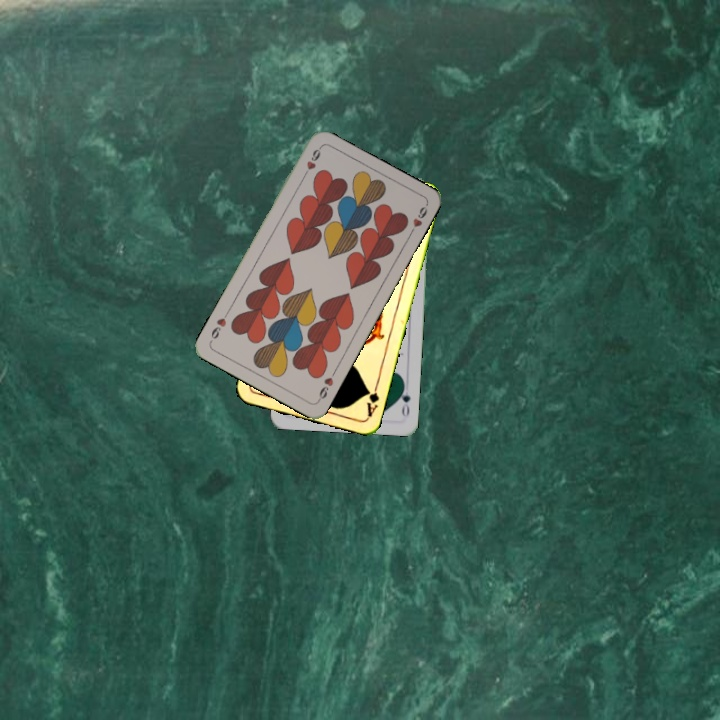GA: (362, 379, 382, 419)
GO: (395, 379, 413, 420)
H9: (299, 143, 324, 181), (314, 367, 338, 404)
